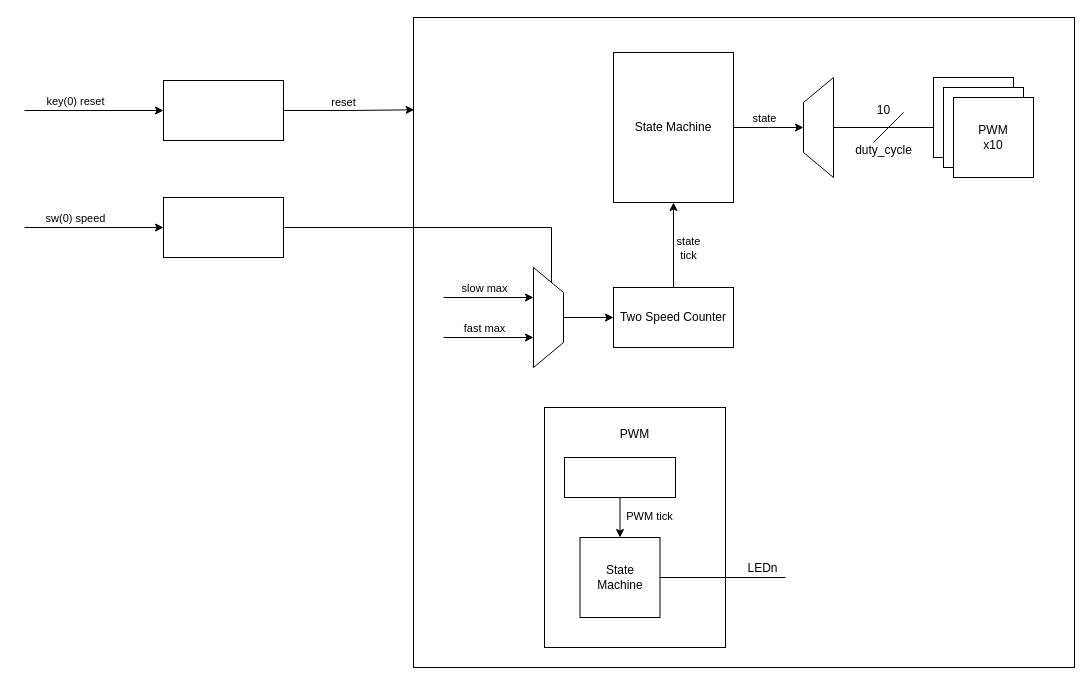
Some shapes in this 1092 by 685 pixel diagram are drawn without their labels. The shapes that lost their labels are listed below. From the top down, each one's centre as x and y in pixels, then its label:
the point at 223,110: Reset Sync
the point at 223,227: Input Sync
the point at 620,477: Counter
